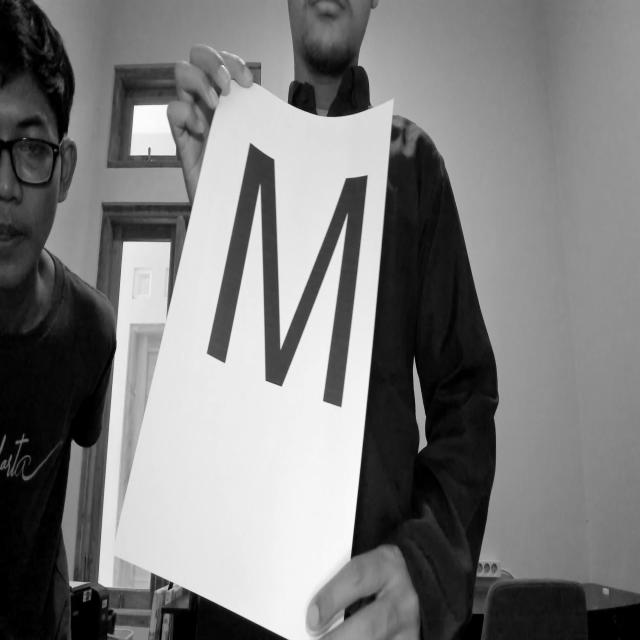m: (196, 110, 370, 425)
